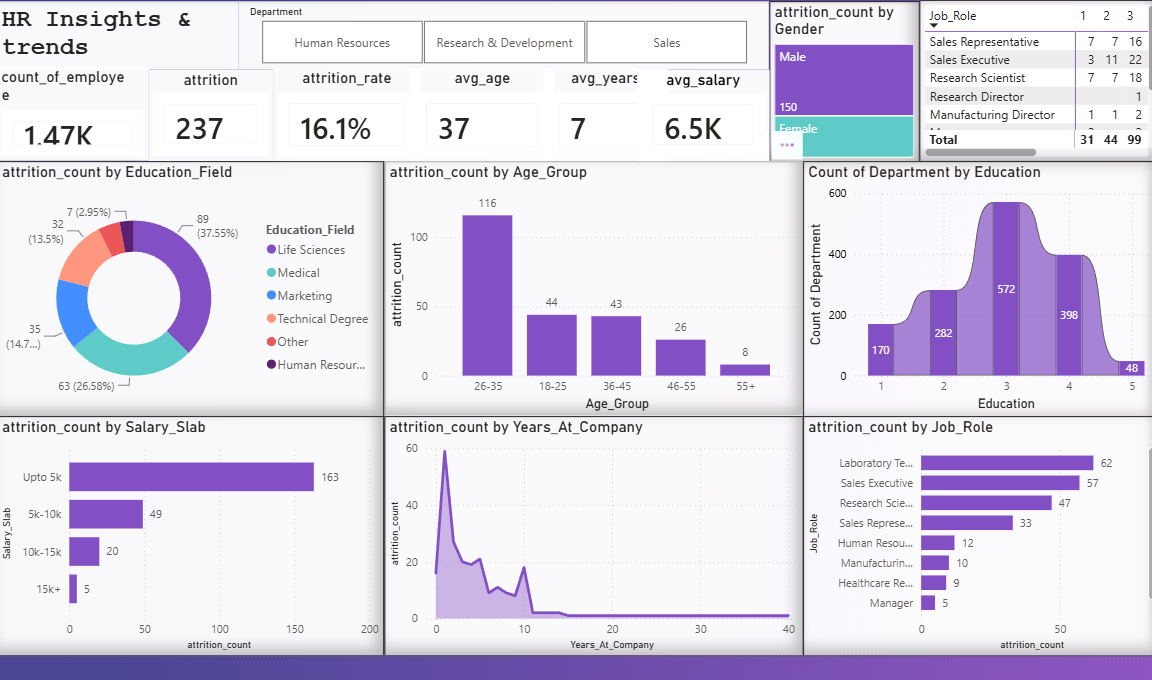

The dashboard page shown, as its layout file describes it:
{"tool":"powerbi","page":{"name":"Page 1","canvas":[1280,720],"ordinal":0},"visuals":[{"type":"cardVisual","title":"count_of_employee","fields":{"Data":["CountNonNull(HR_Analytics.Employee_Number)"]},"box":[0,73.7,166.3,102.7],"z":0},{"type":"cardVisual","title":"attrition","fields":{"Data":["HR_Analytics.attrition_count"]},"box":[166.3,76.6,137.4,99.8],"z":1000},{"type":"cardVisual","title":"attrition_rate","fields":{"Data":["HR_Analytics.attrition_rate"]},"box":[303.7,75.2,162,102.7],"z":2000},{"type":"donutChart","fields":{"Category":["HR_Analytics.Education_Field"],"Y":["HR_Analytics.attrition_count"]},"box":[0,176.4,425.1,280.5],"z":3000},{"type":"cardVisual","title":"avg_age","fields":{"Data":["Avg(HR_Analytics.Age)"]},"box":[454.1,75.2,157.6,104.1],"z":4000},{"type":"cardVisual","title":"avg_years","fields":{"Data":["Avg(HR_Analytics.Years_At_Company)"]},"box":[600.1,75.2,137.4,104.1],"z":5000},{"type":"barChart","fields":{"Category":["HR_Analytics.Salary_Slab"],"Y":["HR_Analytics.attrition_count"]},"box":[0,456.9,425.1,263.2],"z":6000},{"type":"slicer","fields":{"Values":["HR_Analytics.Department"]},"box":[264.6,1.4,582.7,75.2],"z":7000},{"type":"treemap","fields":{"Group":["HR_Analytics.Gender"],"Values":["HR_Analytics.attrition_count"]},"box":[847.4,1.4,164.8,177.9],"z":8000},{"type":"columnChart","fields":{"Category":["HR_Analytics.Age_Group"],"Y":["HR_Analytics.attrition_count"]},"box":[425.1,176.4,459.8,280.5],"z":9000},{"type":"areaChart","fields":{"Category":["HR_Analytics.Years_At_Company"],"Y":["HR_Analytics.attrition_count"]},"box":[425.1,456.9,459.8,263.2],"z":10000},{"type":"ribbonChart","fields":{"Category":["HR_Analytics.Education"],"Y":["CountNonNull(HR_Analytics.Department)"]},"box":[885,176.4,394.8,280.5],"z":11000},{"type":"clusteredBarChart","fields":{"Y":["HR_Analytics.attrition_count"],"Category":["HR_Analytics.Job_Role"]},"box":[885,456.9,394.8,263.2],"z":12000},{"type":"pivotTable","fields":{"Rows":["HR_Analytics.Job_Role"],"Columns":["HR_Analytics.Education"],"Values":["HR_Analytics.attrition_count"]},"box":[1012.2,0,267.5,177.9],"z":13000},{"type":"cardVisual","title":"avg_salary","fields":{"Data":["Avg(HR_Analytics.Monthly_Income)"]},"box":[702.6,76.8,145.5,100.2],"z":14000},{"type":"textbox","box":[0,1.4,264.6,75.2],"z":15000}]}

Visuals, with their boxes in screenshot pixels (x1, y1, x2, y2):
"count_of_employee" cardVisual: (x1=0, y1=65, x2=141, y2=159)
"attrition" cardVisual: (x1=141, y1=67, x2=267, y2=159)
"attrition_rate" cardVisual: (x1=267, y1=66, x2=417, y2=161)
donutChart - HR_Analytics.Education_Field x HR_Analytics.attrition_count: (x1=0, y1=159, x2=379, y2=417)
"avg_age" cardVisual: (x1=406, y1=66, x2=551, y2=162)
"avg_years" cardVisual: (x1=540, y1=66, x2=667, y2=162)
barChart - HR_Analytics.Salary_Slab x HR_Analytics.attrition_count: (x1=0, y1=417, x2=379, y2=660)
slicer - HR_Analytics.Department: (x1=231, y1=0, x2=768, y2=67)
treemap - HR_Analytics.Gender x HR_Analytics.attrition_count: (x1=768, y1=0, x2=919, y2=162)
columnChart - HR_Analytics.Age_Group x HR_Analytics.attrition_count: (x1=379, y1=159, x2=802, y2=417)
areaChart - HR_Analytics.Years_At_Company x HR_Analytics.attrition_count: (x1=379, y1=417, x2=802, y2=660)
ribbonChart - HR_Analytics.Education x CountNonNull(HR_Analytics.Department): (x1=802, y1=159, x2=1151, y2=417)
clusteredBarChart - HR_Analytics.attrition_count x HR_Analytics.Job_Role: (x1=802, y1=417, x2=1151, y2=660)
pivotTable - HR_Analytics.Job_Role x HR_Analytics.Education: (x1=919, y1=0, x2=1151, y2=161)
"avg_salary" cardVisual: (x1=635, y1=68, x2=768, y2=160)
textbox: (x1=0, y1=0, x2=231, y2=67)
